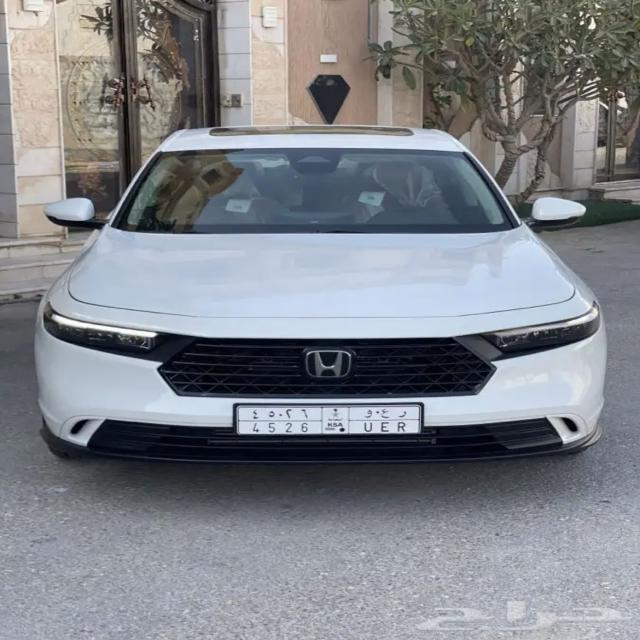license_plate: (234, 404, 423, 437)
